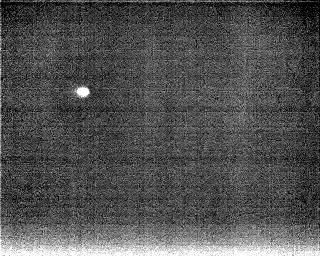AIRPLANE: (74, 84, 92, 100)
